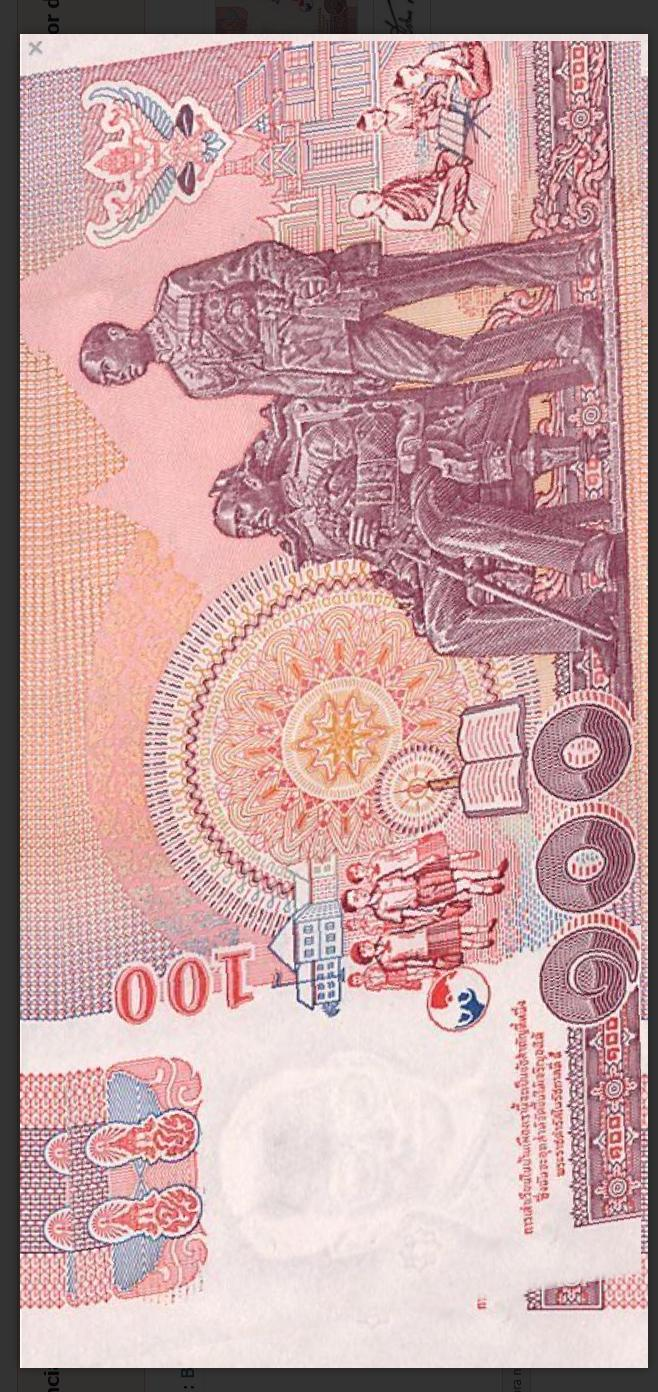100BahtTai: (27, 42, 641, 1367)
